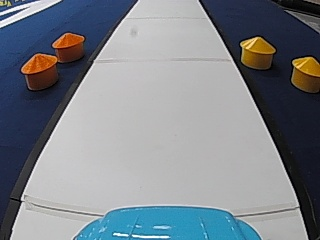granary: (19, 50, 57, 90), (238, 33, 276, 69), (288, 54, 319, 91), (50, 30, 85, 61)
